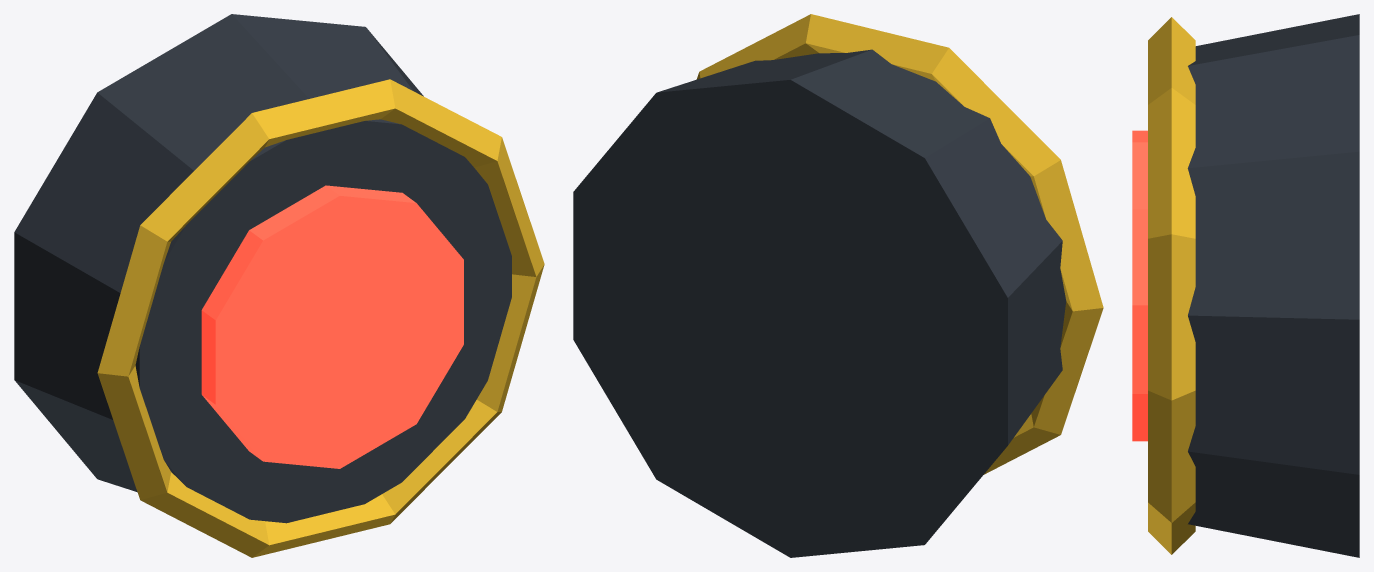
Rendered from robot_eye_sensor.glb.
The picture shows the model from 3 angles, left to right: view 1: azimuth 30°, elevation 25°; view 2: azimuth 150°, elevation 25°; view 3: azimuth 270°, elevation 25°; orthographic projection. The views are drawn at different scales.
Parts seen in each view (by area): view 1: robot_eye_sensor_steelDark, robot_eye_sensor_glowRed, robot_eye_sensor_yellow; view 2: robot_eye_sensor_steelDark, robot_eye_sensor_yellow; view 3: robot_eye_sensor_steelDark, robot_eye_sensor_yellow, robot_eye_sensor_glowRed.
Part boxes in pixels (x1,y1,x2,y2): robot_eye_sensor_steelDark: [14, 14, 511, 523]; robot_eye_sensor_glowRed: [201, 185, 463, 468]; robot_eye_sensor_yellow: [97, 79, 544, 557]; robot_eye_sensor_steelDark: [573, 49, 1066, 557]; robot_eye_sensor_yellow: [696, 14, 1103, 474]; robot_eye_sensor_steelDark: [1187, 14, 1359, 557]; robot_eye_sensor_yellow: [1148, 17, 1195, 554]; robot_eye_sensor_glowRed: [1132, 130, 1147, 441].
Bounding box in the file's own units: 2.74 × 2.8 × 1.15.
